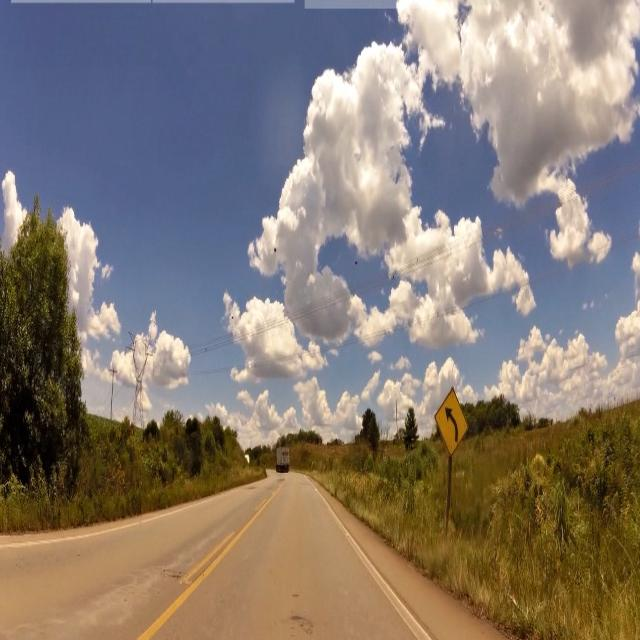A-2a: (435, 382, 471, 458)
